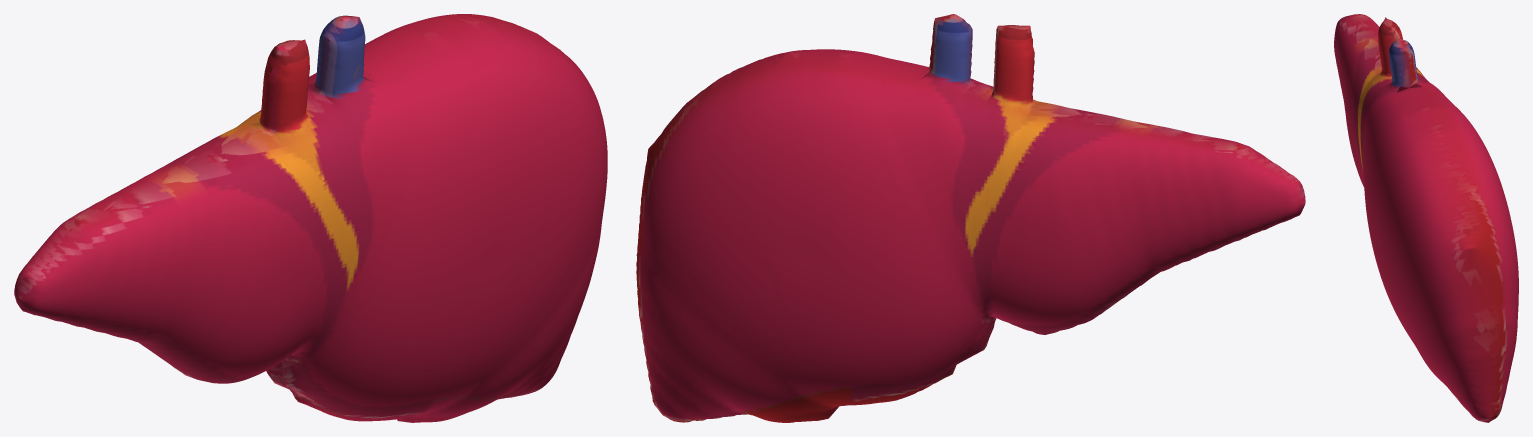
The model's file is humans_liver.glb.
3 views of the same model, side by side, from view 1: azimuth 30°, elevation 25°; view 2: azimuth 150°, elevation 25°; view 3: azimuth 270°, elevation 25° (orthographic). The views are drawn at different scales.
Visible parts, largest first — view 1: node_id5_1; view 2: node_id5_1; view 3: node_id5_1.
Part boxes in pixels (x1=…): node_id5_1: x1=14, y1=14, x2=607, y2=422; node_id5_1: x1=636, y1=14, x2=1305, y2=422; node_id5_1: x1=1334, y1=14, x2=1518, y2=422.
Bounding box in the file's own units: 0.4707 × 0.3246 × 0.1788.
Materials: 1 (1 with a texture image).
